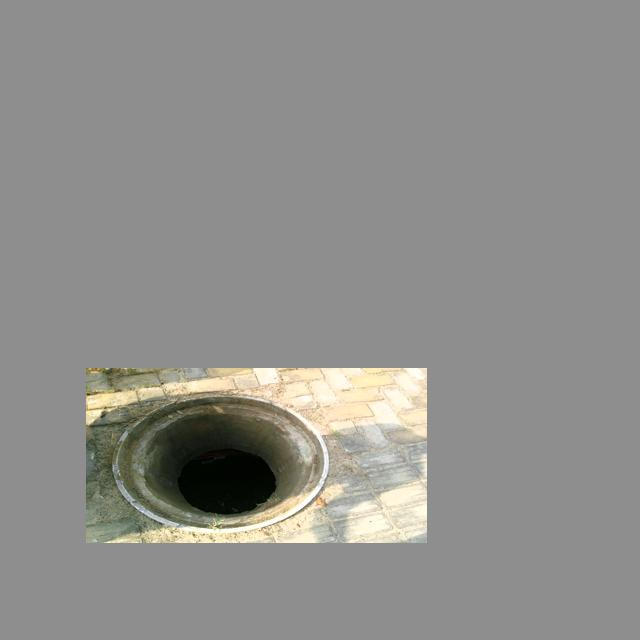lose: (112, 394, 329, 532)
